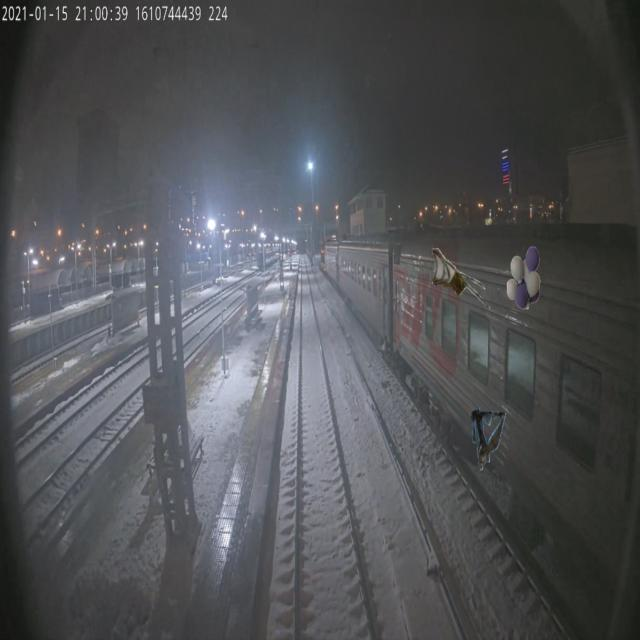balloon: (507, 246, 540, 310)
floating object: (432, 248, 492, 312), (469, 407, 506, 471)
